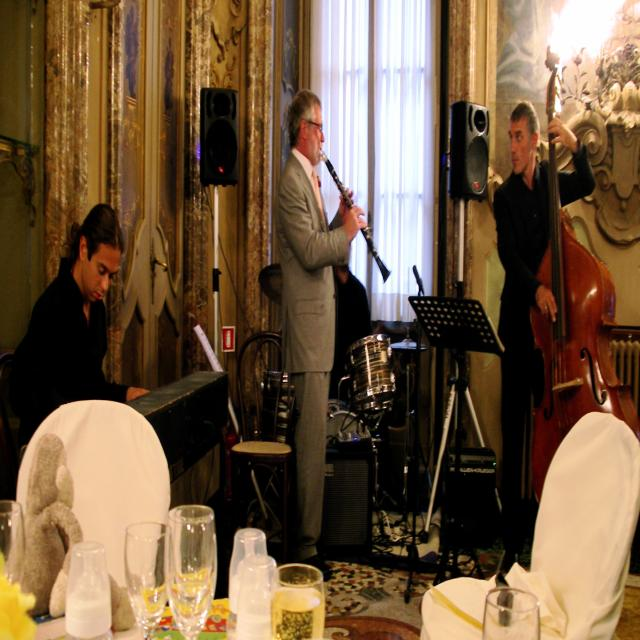clarinet: (317, 147, 393, 286)
